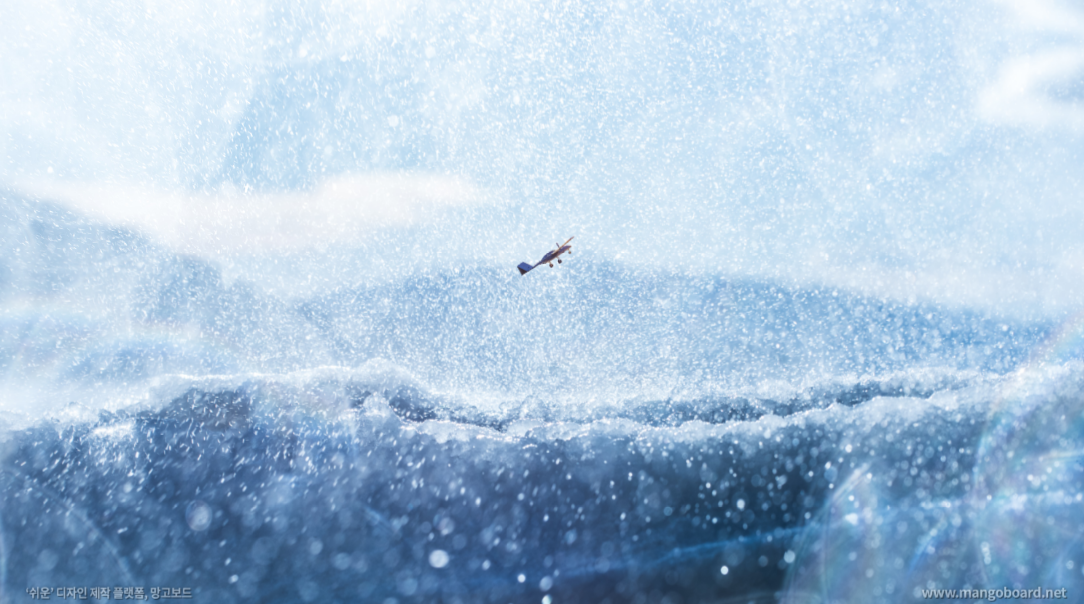military drone: (516, 235, 574, 275)
